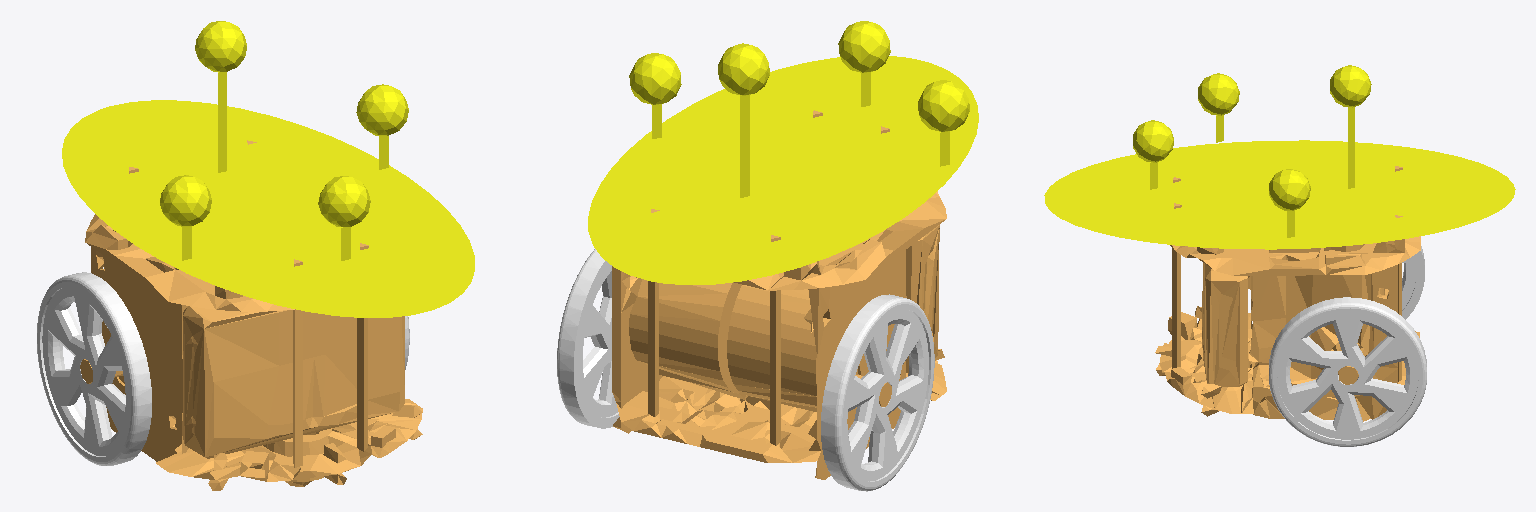
URDF robot description (swmrob_v26):
<?xml version="1.0" encoding="utf-8"?>
<!-- This URDF was automatically created by SolidWorks to URDF Exporter! Originally created by [author] ([email redacted]) 
     Commit Version: 1.6.0-4-g7f85cfe  Build Version: 1.6.7995.38578
     For more information, please see http://wiki.ros.org/sw_urdf_exporter -->
<robot
  name="swmrob_v26">
  <link
    name="base_link">
    <inertial>
      <origin
        xyz="-0.00048529 0.00026068 0.017921"
        rpy="0 0 0" />
      <mass
        value="0.057426" />
      <inertia
        ixx="8.0665E-06"
        ixy="-4.7558E-08"
        ixz="-1.5248E-08"
        iyy="8.5295E-06"
        iyz="2.1229E-07"
        izz="1.0079E-05" />
    </inertial>
    <visual>
      <origin
        xyz="0 0 0"
        rpy="0 0 0" />
      <geometry>
        <mesh
          filename="package://swmrob_v26/meshes/base_link.STL" />
      </geometry>
      <material
        name="">
        <color
          rgba="1 0.76471 0.43529 1" />
      </material>
    </visual>
    <collision>
      <origin
        xyz="0 0 0"
        rpy="0 0 0" />
      <geometry>
        <mesh
          filename="package://swmrob_v26/meshes/base_link.STL" />
      </geometry>
    </collision>
  </link>
  <link
    name="headplate">
    <inertial>
      <origin
        xyz="-0.00011801 -0.0010291 0.0017348"
        rpy="0 0 0" />
      <mass
        value="0.012565" />
      <inertia
        ixx="7.8741E-06"
        ixy="7.508E-10"
        ixz="1.3285E-13"
        iyy="2.3568E-06"
        iyz="1.796E-17"
        izz="1.0202E-05" />
    </inertial>
    <visual>
      <origin
        xyz="0 0 0"
        rpy="0 0 0" />
      <geometry>
        <mesh
          filename="package://swmrob_v26/meshes/headplate.STL" />
      </geometry>
      <material
        name="">
        <color
          rgba="1 1 0.1451 1" />
      </material>
    </visual>
    <collision>
      <origin
        xyz="0 0 0"
        rpy="0 0 0" />
      <geometry>
        <mesh
          filename="package://swmrob_v26/meshes/headplate.STL" />
      </geometry>
    </collision>
  </link>
  <joint
    name="headplate"
    type="fixed">
    <origin
      xyz="0.00050422 -0.0026819 0.045605"
      rpy="0 0 0.054447" />
    <parent
      link="base_link" />
    <child
      link="headplate" />
    <axis
      xyz="0 0 0" />
  </joint>
  <link
    name="Left wheel">
    <inertial>
      <origin
        xyz="-0.0015204 1.3789E-13 -5.7954E-14"
        rpy="0 0 0" />
      <mass
        value="0.0025911" />
      <inertia
        ixx="5.2509E-07"
        ixy="-1.2119E-19"
        ixz="4.6405E-21"
        iyy="2.6486E-07"
        iyz="4.2466E-20"
        izz="2.6486E-07" />
    </inertial>
    <visual>
      <origin
        xyz="0 0 0"
        rpy="0 0 0" />
      <geometry>
        <mesh
          filename="package://swmrob_v26/meshes/Left wheel.STL" />
      </geometry>
      <material
        name="">
        <color
          rgba="1 1 1 1" />
      </material>
    </visual>
    <collision>
      <origin
        xyz="0 0 0"
        rpy="0 0 0" />
      <geometry>
        <mesh
          filename="package://swmrob_v26/meshes/Left wheel.STL" />
      </geometry>
    </collision>
  </link>
  <joint
    name="Left wheel"
    type="continuous">
    <origin
      xyz="0.029607 0.013227 0.01075"
      rpy="0.010581 0 0.010213" />
    <parent
      link="base_link" />
    <child
      link="Left wheel" />
    <axis
      xyz="1 0 0" />
  </joint>
  <link
    name="Right wheel">
    <inertial>
      <origin
        xyz="0.0015204 5.538E-05 -5.027E-05"
        rpy="0 0 0" />
      <mass
        value="0.0025911" />
      <inertia
        ixx="5.2509E-07"
        ixy="-5.5335E-20"
        ixz="-9.8203E-21"
        iyy="2.6486E-07"
        iyz="6.3344E-20"
        izz="2.6486E-07" />
    </inertial>
    <visual>
      <origin
        xyz="0 0 0"
        rpy="0 0 0" />
      <geometry>
        <mesh
          filename="package://swmrob_v26/meshes/Right wheel.STL" />
      </geometry>
      <material
        name="">
        <color
          rgba="1 1 1 1" />
      </material>
    </visual>
    <collision>
      <origin
        xyz="0 0 0"
        rpy="0 0 0" />
      <geometry>
        <mesh
          filename="package://swmrob_v26/meshes/Right wheel.STL" />
      </geometry>
    </collision>
  </link>
  <joint
    name="Right wheel"
    type="continuous">
    <origin
      xyz="-0.03039 0.012614 0.01075"
      rpy="0.0021341 0 0.010213" />
    <parent
      link="base_link" />
    <child
      link="Right wheel" />
    <axis
      xyz="1 0 0" />
  </joint>
</robot>

--- What the picture shows (computed from the rendered views, not written in the file) ---
Views: 3 orthographic renders of the robot side by side, from view 1: azimuth 30°, elevation 25°; view 2: azimuth 150°, elevation 25°; view 3: azimuth 270°, elevation 25°.
Model swmrob_v26 with 4 links and 3 joints (2 continuous, 1 fixed), rooted at base_link, posed every joint at zero.
Visible links, largest first — view 1: headplate, base_link, Right wheel; view 2: headplate, base_link, Right wheel, Left wheel; view 3: headplate, base_link, Left wheel, Right wheel.
Boxes of the visible links, bbox=[...] form: headplate: bbox=[62, 21, 474, 317]; base_link: bbox=[80, 140, 422, 490]; Right wheel: bbox=[37, 272, 151, 465]; headplate: bbox=[588, 21, 978, 284]; base_link: bbox=[612, 110, 946, 479]; Right wheel: bbox=[821, 294, 934, 491]; Left wheel: bbox=[557, 249, 619, 428]; headplate: bbox=[1044, 65, 1515, 249]; base_link: bbox=[1155, 166, 1420, 421]; Left wheel: bbox=[1269, 297, 1426, 446]; Right wheel: bbox=[1402, 246, 1424, 319].
Size in the robot's own frame: 0.0627 by 0.1097 by 0.085 metres.
4 mesh visuals loaded from 4 distinct referenced files (4 binary STL).
